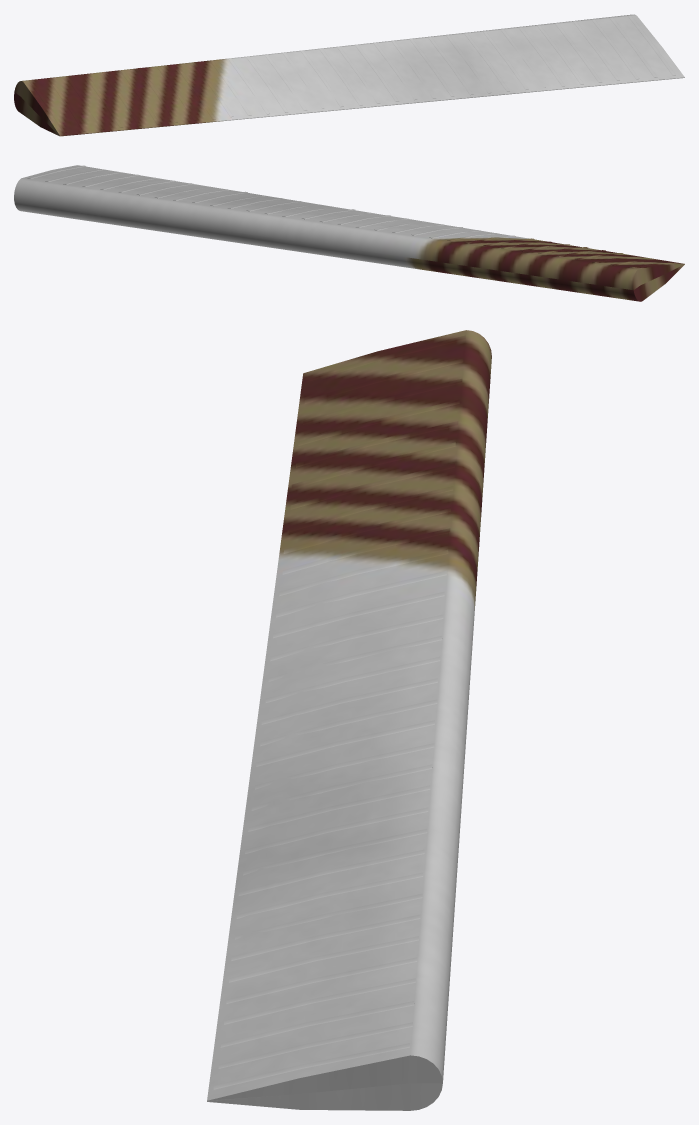
The model's file is aileron_left.obj.
The picture shows the model from 3 angles, top to bottom: view 1: azimuth 30°, elevation 25°; view 2: azimuth 150°, elevation 25°; view 3: azimuth 270°, elevation 25°; orthographic projection. The views are drawn at different scales.
Visible parts, largest first — view 1: aileronG_aileronG.mesh; view 2: aileronG_aileronG.mesh; view 3: aileronG_aileronG.mesh.
Part boxes in pixels (x1,y1,x2,y2): aileronG_aileronG.mesh: [14, 14, 684, 136]; aileronG_aileronG.mesh: [14, 165, 684, 301]; aileronG_aileronG.mesh: [207, 330, 491, 1110].
Size of the model in its own units: 2.26 by 0.3553 by 0.4615.
Materials: 1 (1 with a texture image).
